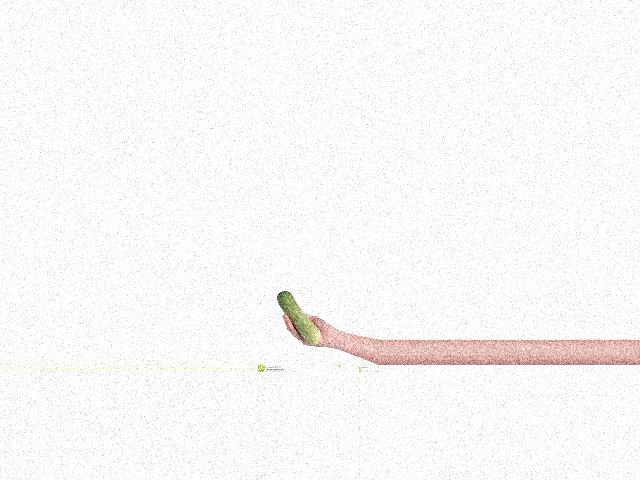cucumber: (278, 291, 321, 344)
